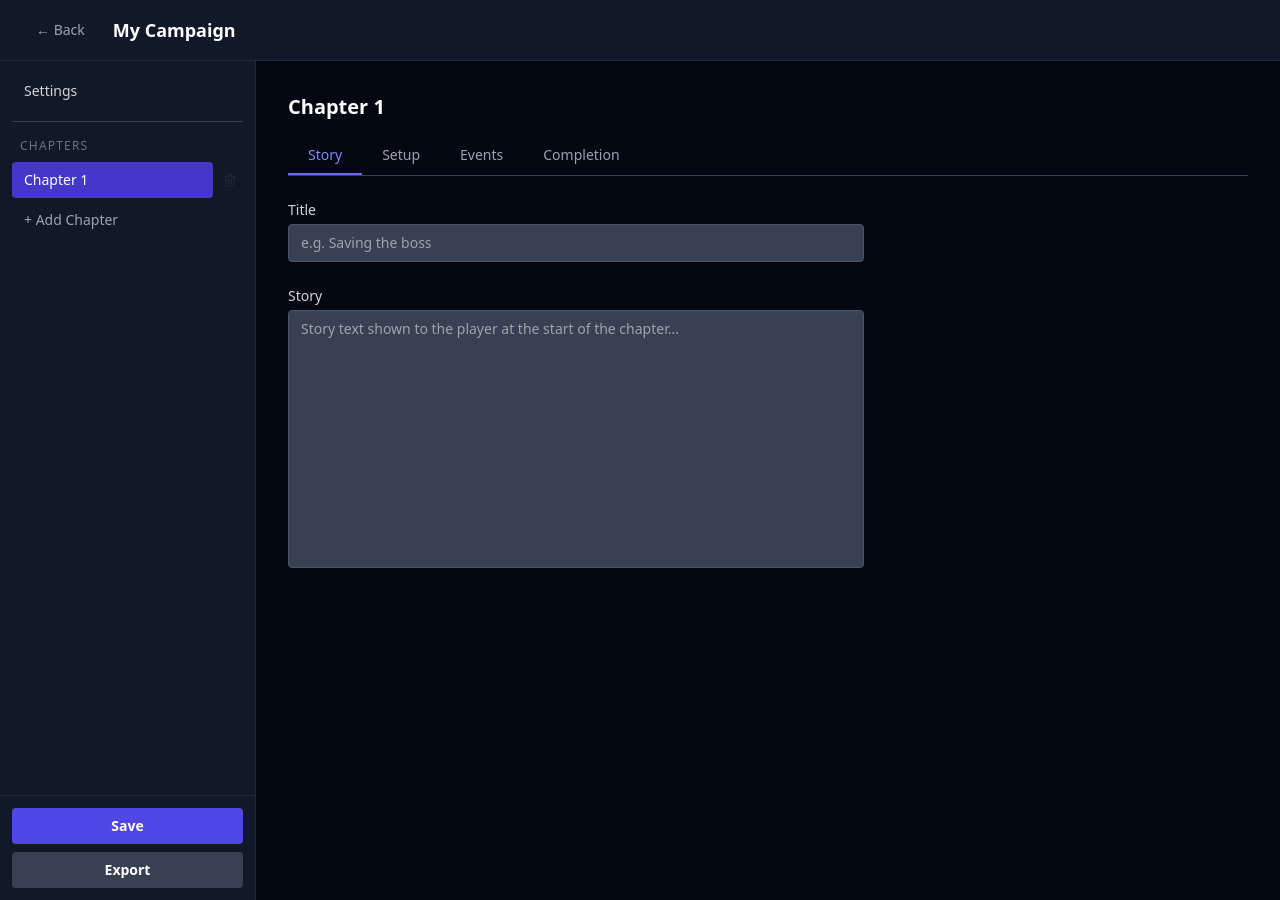
Test: CreatorPage › clicking Settings shows the settings form in the main area
This screenshot has width=1280, height=900.
Click the button "Settings".
click(128, 91)  # box [12,73,243,109]
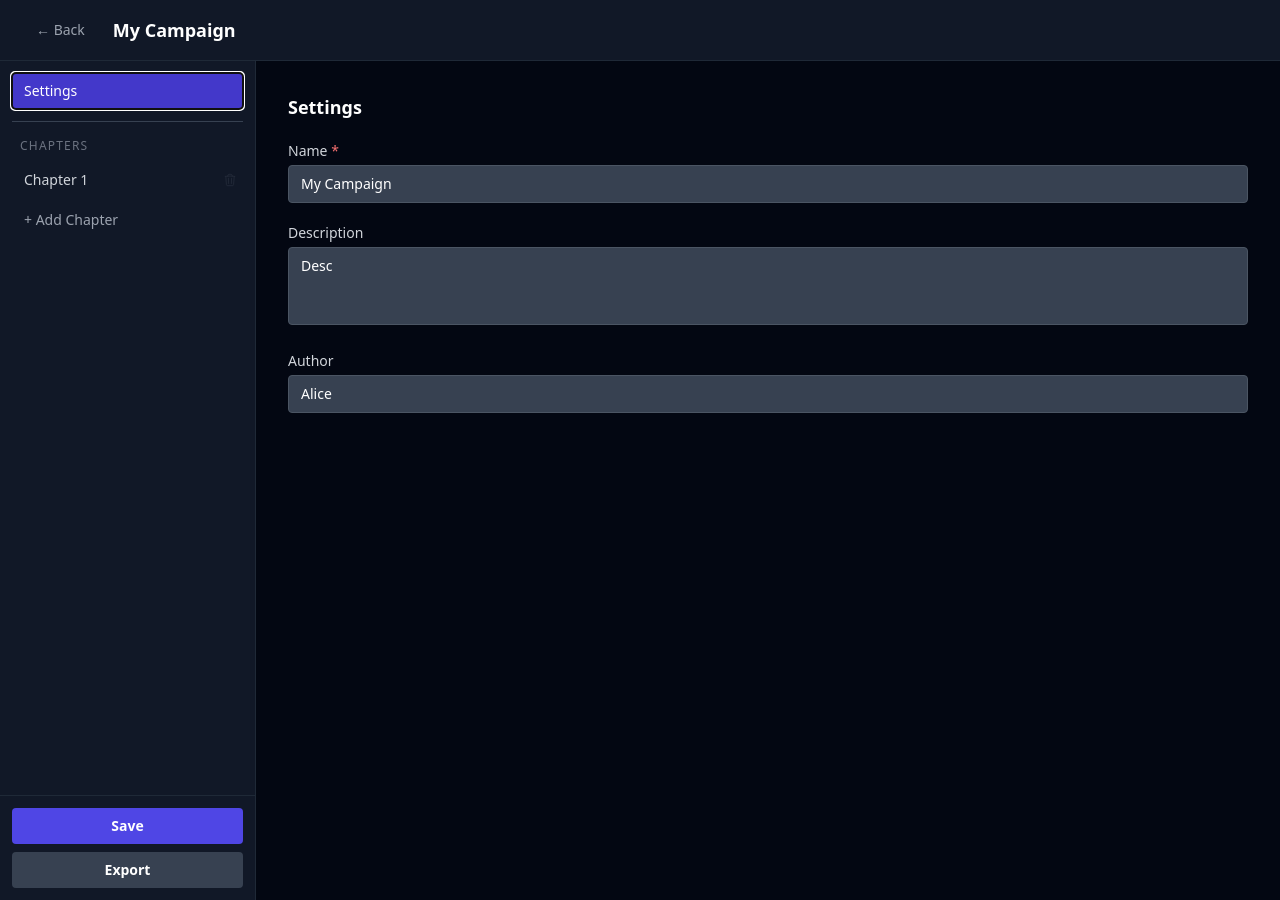
Expected: the field labelled "Name *" is shown, [288,165,1248,203]
Expected: the text box labelled "Description" is shown, [288,247,1248,325]
Expected: the field labelled "Author" is shown, [288,375,1248,413]
